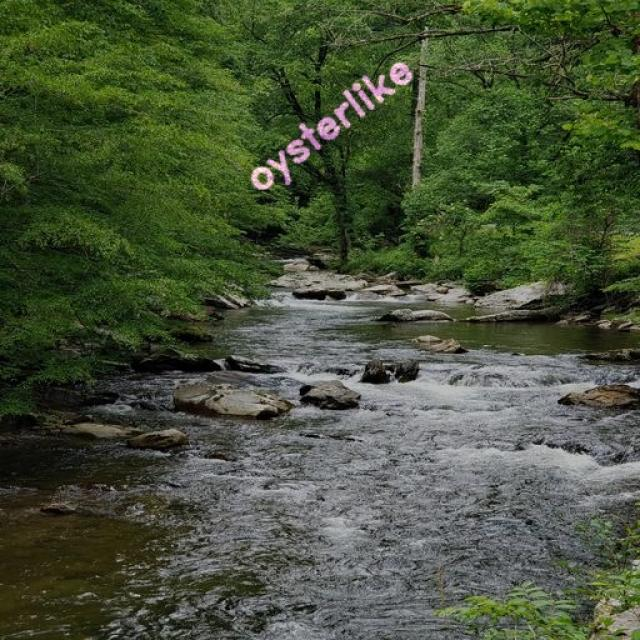watermark: (248, 42, 416, 200)
